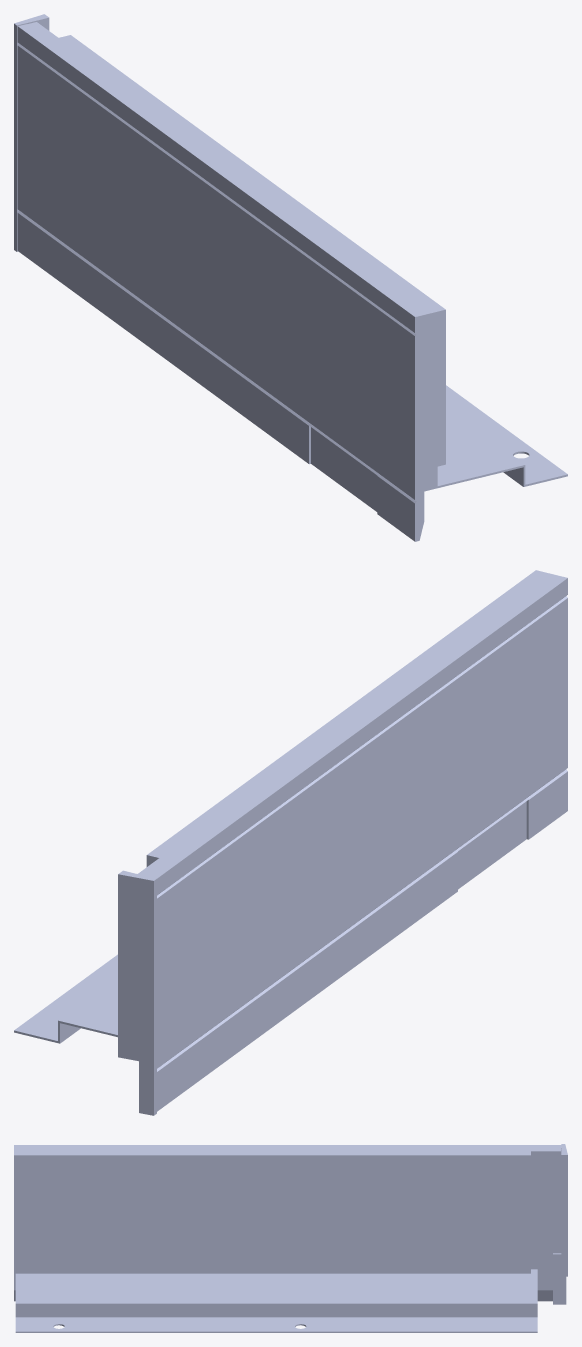
Rendered from lg-kava-M300-p.glb.
3 views of the same model, one above another, from view 1: azimuth 30°, elevation 25°; view 2: azimuth 150°, elevation 25°; view 3: azimuth 270°, elevation 25° (orthographic). The views are drawn at different scales.
Parts seen in each view (by area): view 1: 45632694; view 2: 45632694; view 3: 45632694.
Part boxes in pixels (x1,y1,x2,y2): 45632694: (14, 14, 567, 541); 45632694: (14, 570, 567, 1115); 45632694: (14, 1144, 567, 1332).
Bounding box in the file's own units: 0.0653 × 0.0912 × 0.2935.
